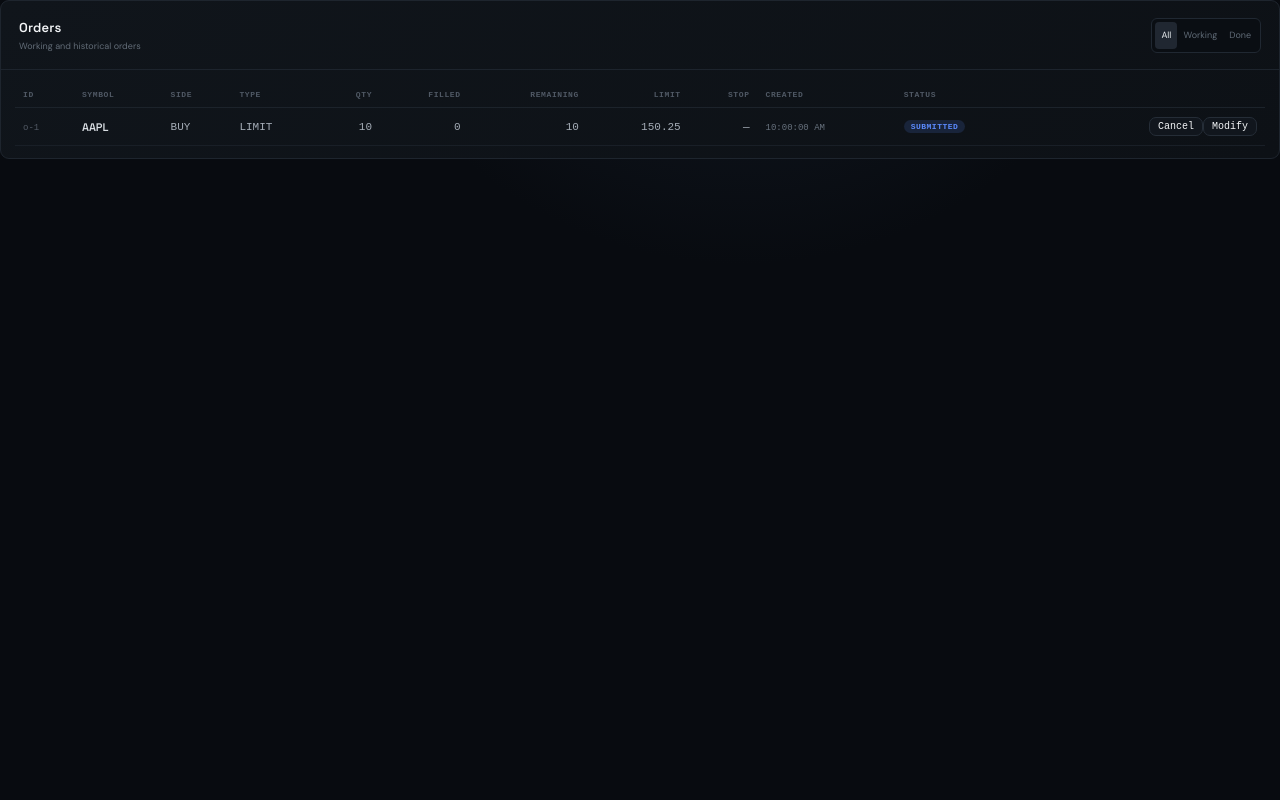
Test case: OrderBlotter › surfaces a double-cancel conflict (409) instead of pretending success
Click the button "Cancel".
click(1176, 126)  # box [1149,117,1203,136]
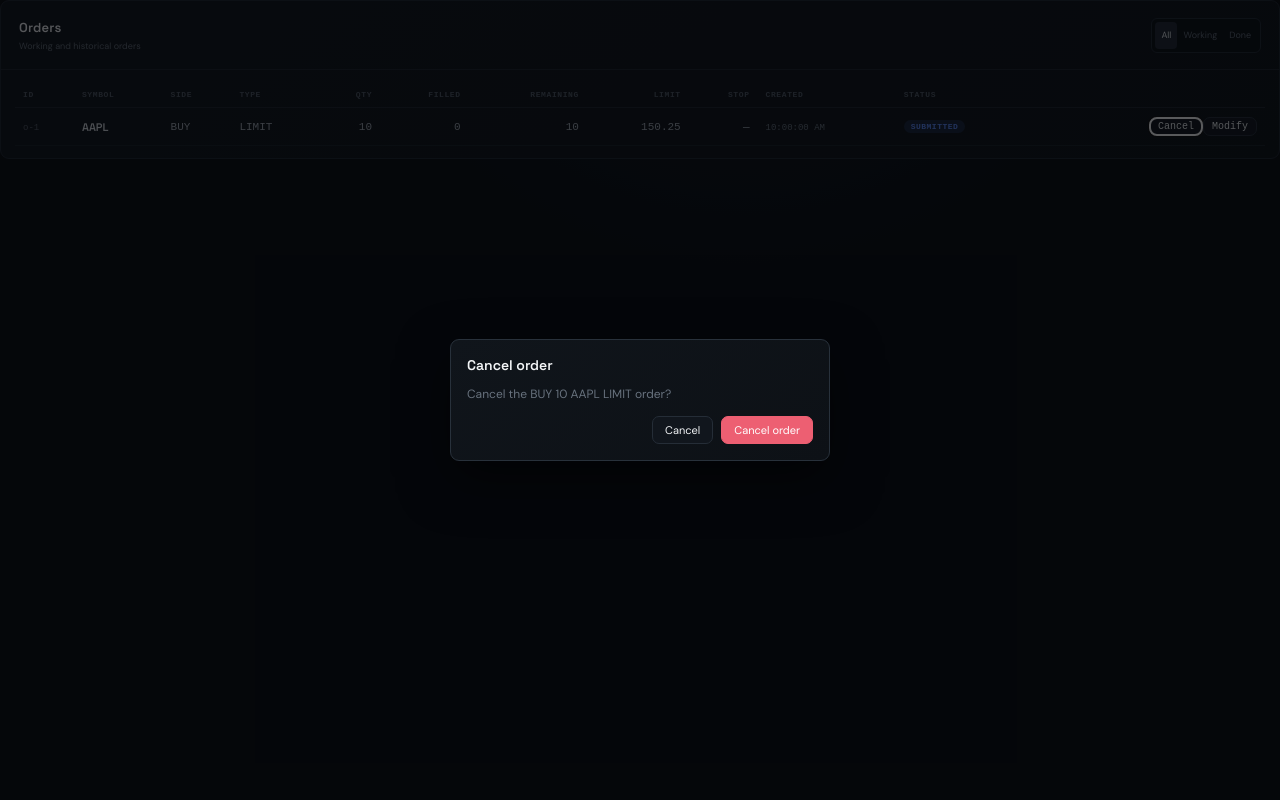
Click the button "Cancel order".
click(767, 430)  # box [721,416,813,444]
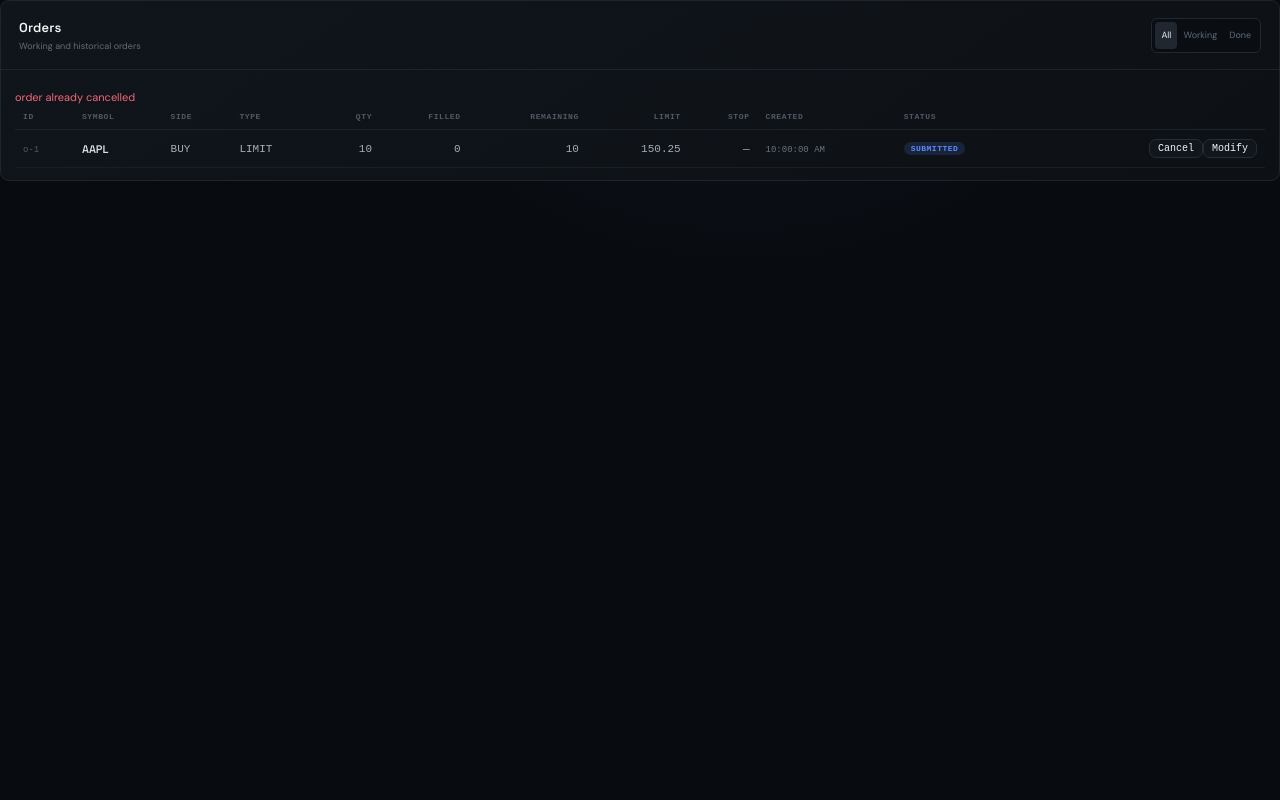
Now the message "order already cancelled" is shown, box [15,90,135,104]
